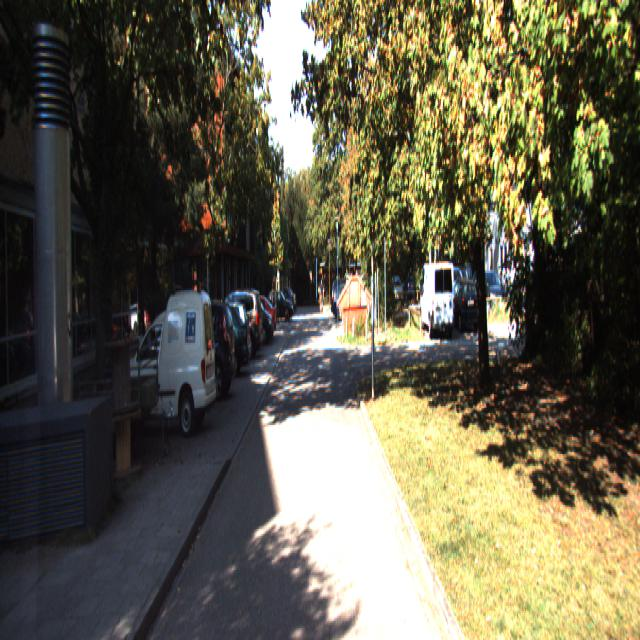Car: (114, 284, 217, 441), (154, 297, 238, 406), (186, 302, 252, 379), (203, 287, 264, 362), (199, 298, 250, 368), (418, 258, 456, 338), (448, 276, 480, 333)
